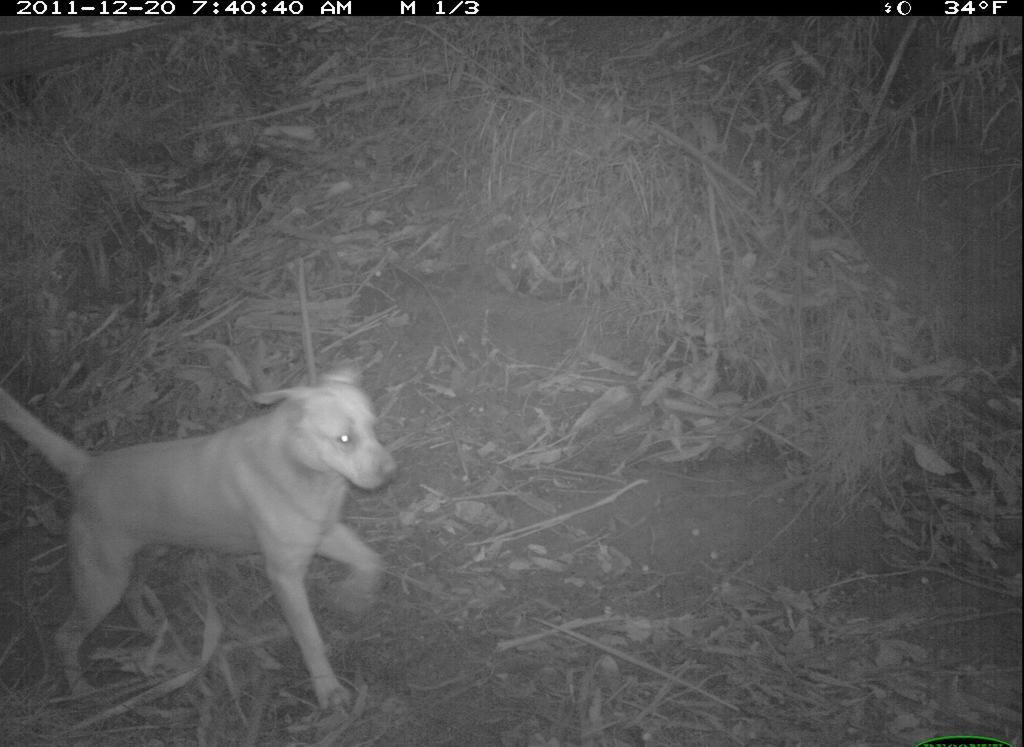dog: (6, 367, 418, 719)
